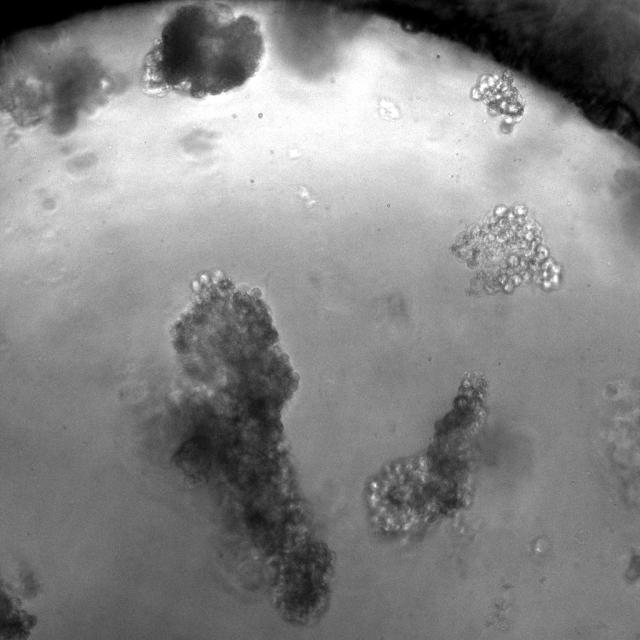organoid: (171, 272, 332, 623), (367, 372, 487, 534), (0, 43, 126, 135), (142, 4, 264, 98), (451, 205, 561, 294), (468, 67, 526, 136)
